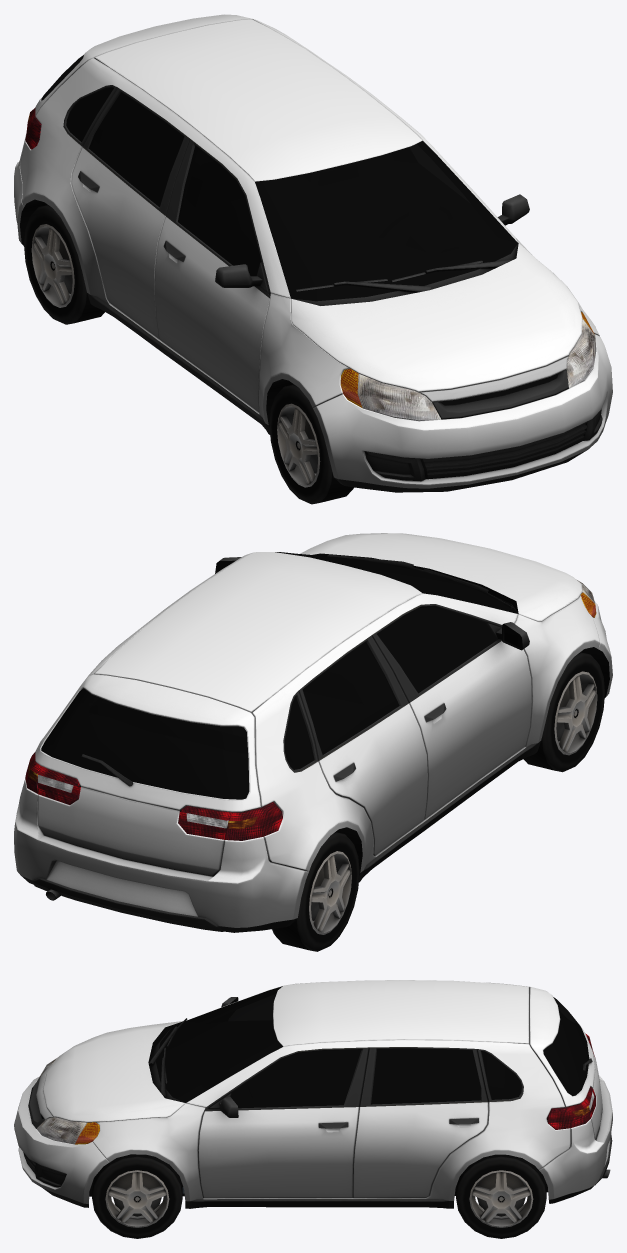
Rendered from roadster.glb.
3 renders of one model, top to bottom at view 1: azimuth 30°, elevation 25°; view 2: azimuth 150°, elevation 25°; view 3: azimuth 270°, elevation 25°, orthographic. The views are drawn at different scales.
Parts seen in each view (by area): view 1: Hatchback Body_Body_0, Hatchback Body_Glass_0, Door skin and glass (×3), TyreRim (×2), Lamp head; view 2: Hatchback Body_Body_0, Hatchback Body_Glass_0, Door skin and glass (×2), TyreRim (×2), Lamp brake; view 3: Hatchback Body_Body_0, Door skin and glass (×3), Hatchback Body_Glass_0, TyreRim (×2), Lamp head, Lamp brake.
Part boxes in pixels (x1,y1,x2,y2): Hatchback Body_Body_0: [14, 14, 612, 492]; Hatchback Body_Glass_0: [41, 55, 517, 301]; Door skin and glass (×3): [151, 97, 529, 424]; TyreRim (×2): [24, 205, 354, 504]; Lamp head: [340, 312, 596, 421]; Hatchback Body_Body_0: [14, 533, 612, 932]; Hatchback Body_Glass_0: [41, 552, 517, 799]; Door skin and glass (×2): [374, 593, 548, 823]; TyreRim (×2): [272, 652, 604, 951]; Lamp brake: [25, 752, 282, 840]; Hatchback Body_Body_0: [14, 980, 612, 1208]; Door skin and glass (×3): [181, 982, 361, 1200]; Hatchback Body_Glass_0: [156, 986, 589, 1104]; TyreRim (×2): [92, 1154, 546, 1238]; Lamp head: [37, 1057, 99, 1144]; Lamp brake: [547, 1033, 595, 1129].
Bounding box in the file's own units: 1.8 × 1.4 × 4.1.
6 materials, 4 textured.
